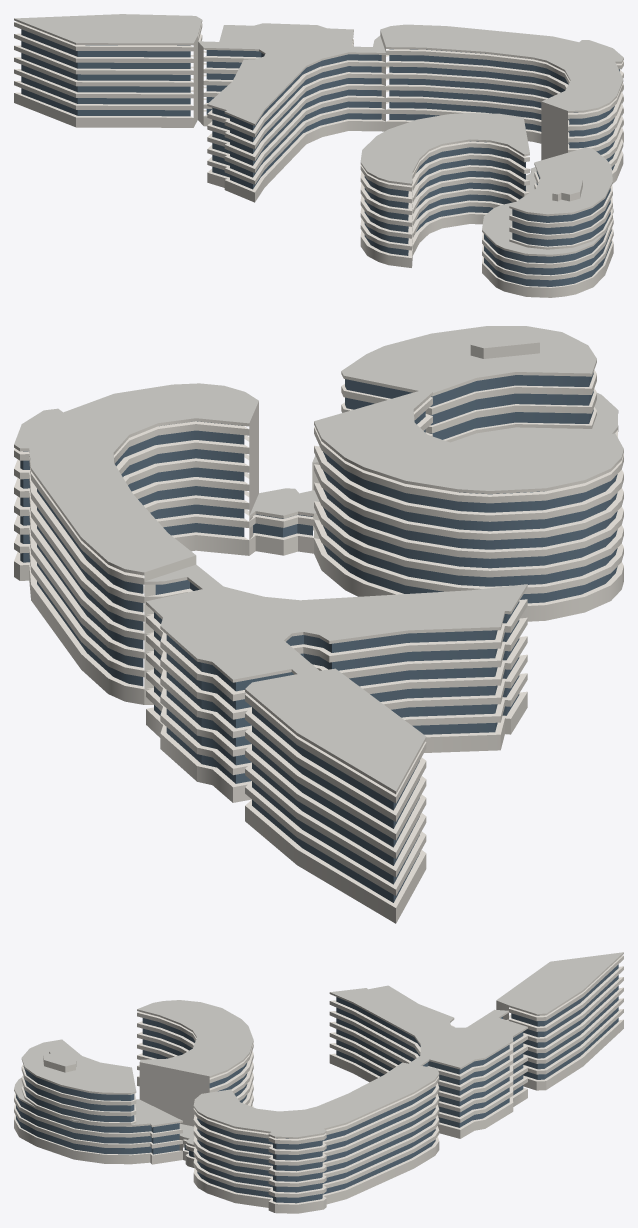
Rendered from detail.glb.
3 views of the same model, one above another, from view 1: azimuth 30°, elevation 25°; view 2: azimuth 150°, elevation 25°; view 3: azimuth 270°, elevation 25° (orthographic). The views are drawn at different scales.
Parts seen in each view (by area): view 1: watergate-complex; view 2: watergate-complex; view 3: watergate-complex.
Part boxes in pixels (x1,y1,x2,y2): watergate-complex: (14,14,623,297); watergate-complex: (14,326,623,923); watergate-complex: (14,952,623,1213).
Bounding box in the file's own units: 223 × 43.5 × 311.
